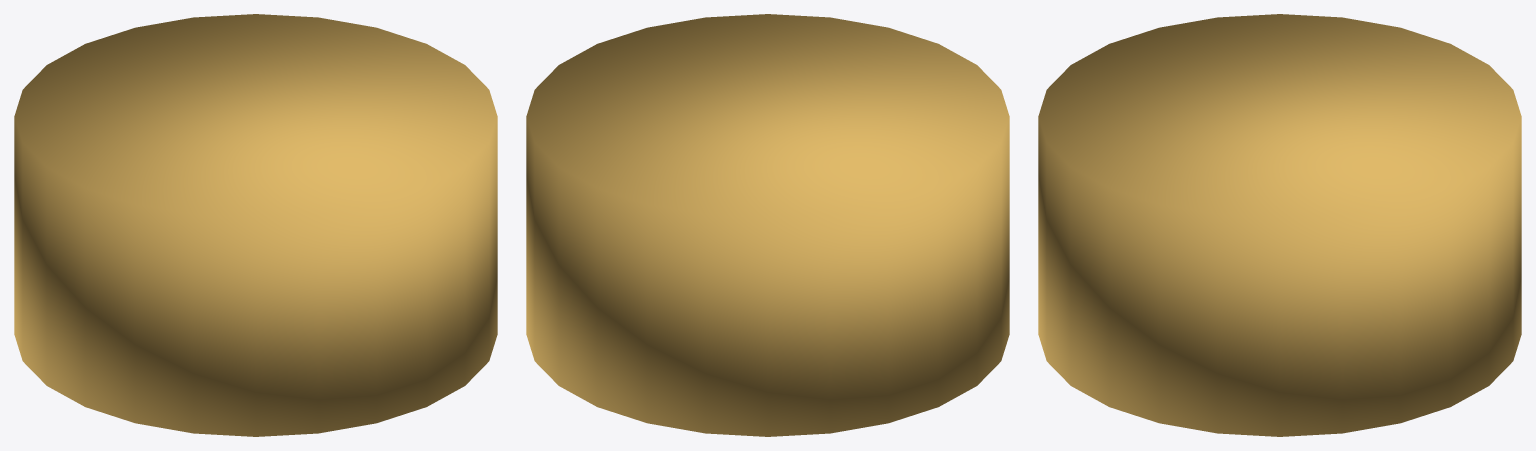
The model's file is KRM_M07_Cylinder.fbx.
The picture shows the model from 3 angles, left to right: view 1: azimuth 30°, elevation 25°; view 2: azimuth 150°, elevation 25°; view 3: azimuth 270°, elevation 25°; orthographic projection.
Parts seen in each view (by area): view 1: KRM_M07_Cylinder; view 2: KRM_M07_Cylinder; view 3: KRM_M07_Cylinder.
Part boxes in pixels (x1=…): KRM_M07_Cylinder: x1=14, y1=14, x2=497, y2=436; KRM_M07_Cylinder: x1=526, y1=14, x2=1009, y2=436; KRM_M07_Cylinder: x1=1038, y1=14, x2=1521, y2=436.
Size of the model in its own units: 200 by 100 by 200.
Materials: 1 (1 with a texture image).
